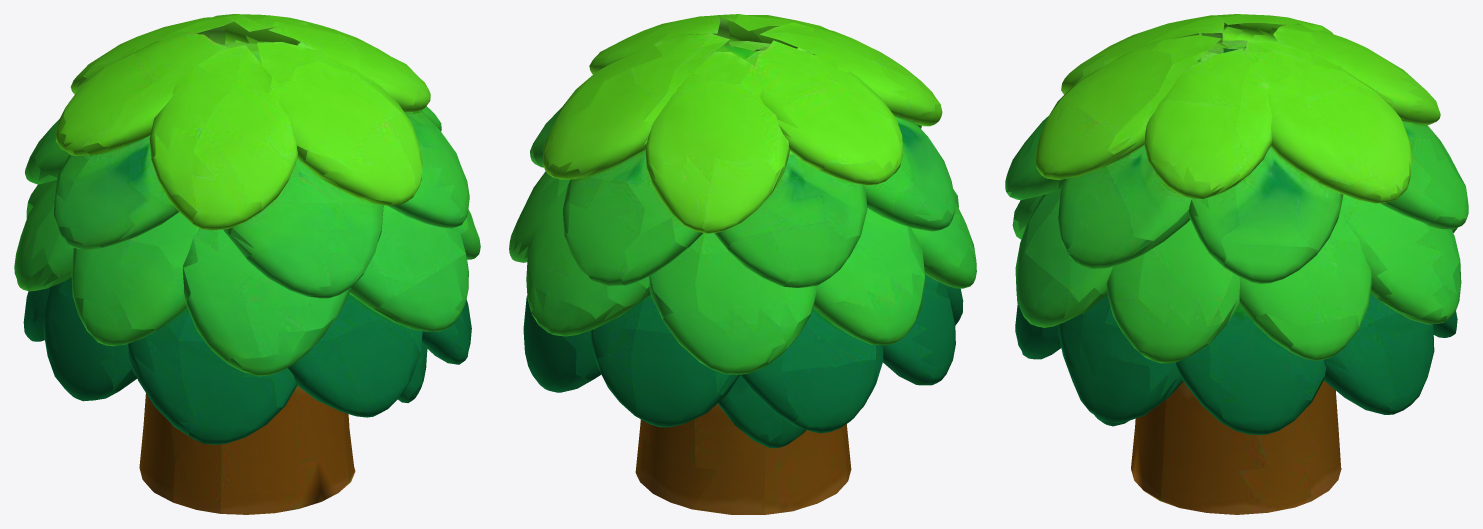
The model's file is la_arbol.glb.
3 views of the same model, side by side, from view 1: azimuth 30°, elevation 25°; view 2: azimuth 150°, elevation 25°; view 3: azimuth 270°, elevation 25° (orthographic).
Size of the model in its own units: 0.9531 by 1 by 0.9727.
1 material, 1 textured.
